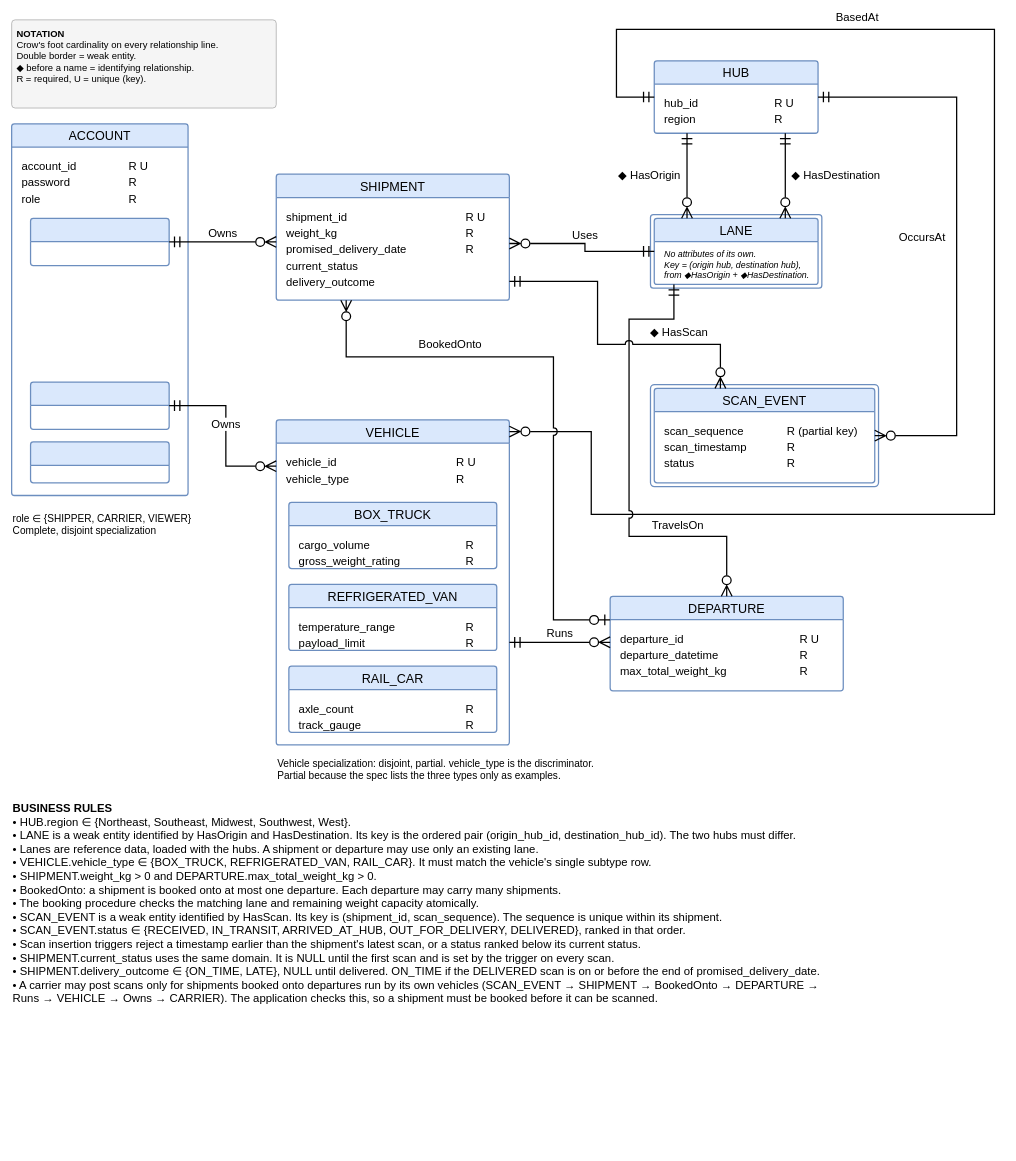
The diagram is 1016 pixels wide and 1161 high, and some of its shapes have lost their labels. The centre of each missing label's shape, as x and y in pixels:
"CARRIER" goes at (99,405).
"SHIPPER" goes at (99,241).
"VIEWER" goes at (99,462).
